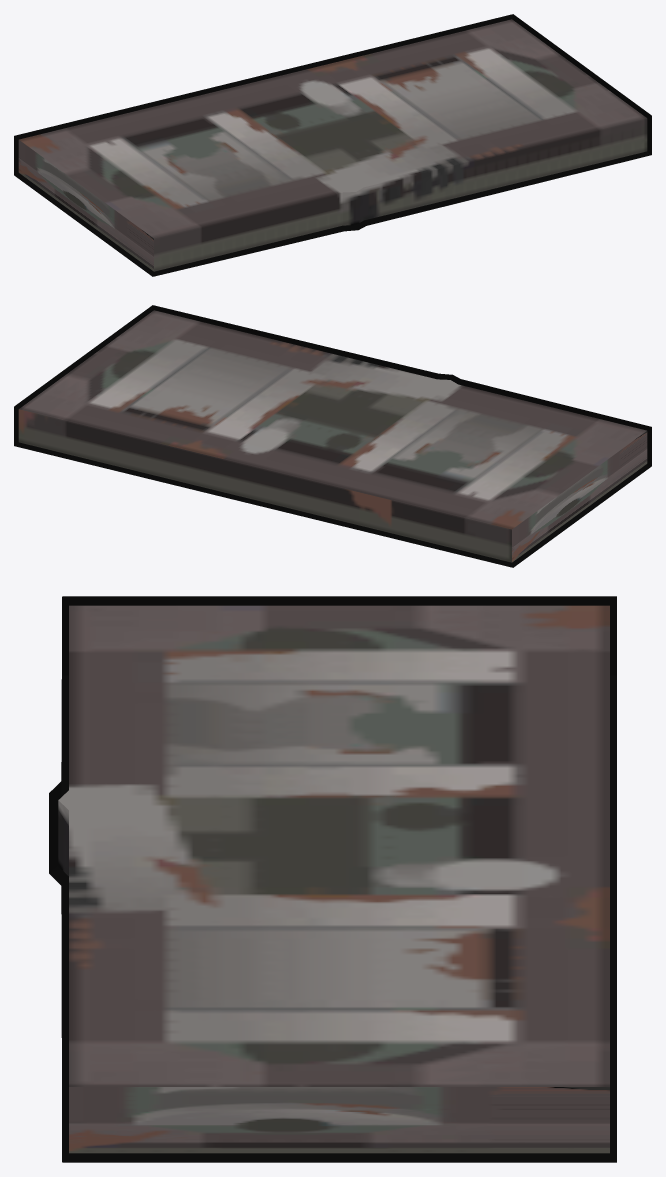
The model's file is Building_AncientBasicRecharger_Things_Building_Ruins_AncientBasicRecharger.glb.
The picture shows the model from 3 angles, top to bottom: view 1: azimuth 30°, elevation 25°; view 2: azimuth 150°, elevation 25°; view 3: azimuth 270°, elevation 25°; orthographic projection. The views are drawn at different scales.
Parts seen in each view (by area): view 1: Body, Outline; view 2: Body, Outline; view 3: Body, Outline.
Part boxes in pixels (x1=…): Body: x1=18, y1=19, x2=647, y2=271; Outline: x1=14, y1=14, x2=651, y2=276; Body: x1=18, y1=310, x2=647, y2=562; Outline: x1=14, y1=305, x2=651, y2=567; Body: x1=58, y1=605, x2=609, y2=1153; Outline: x1=49, y1=596, x2=616, y2=1162.
Bounding box in the file's own units: 1.49 × 0.118 × 0.7327.
Materials: 2 (1 with a texture image).
